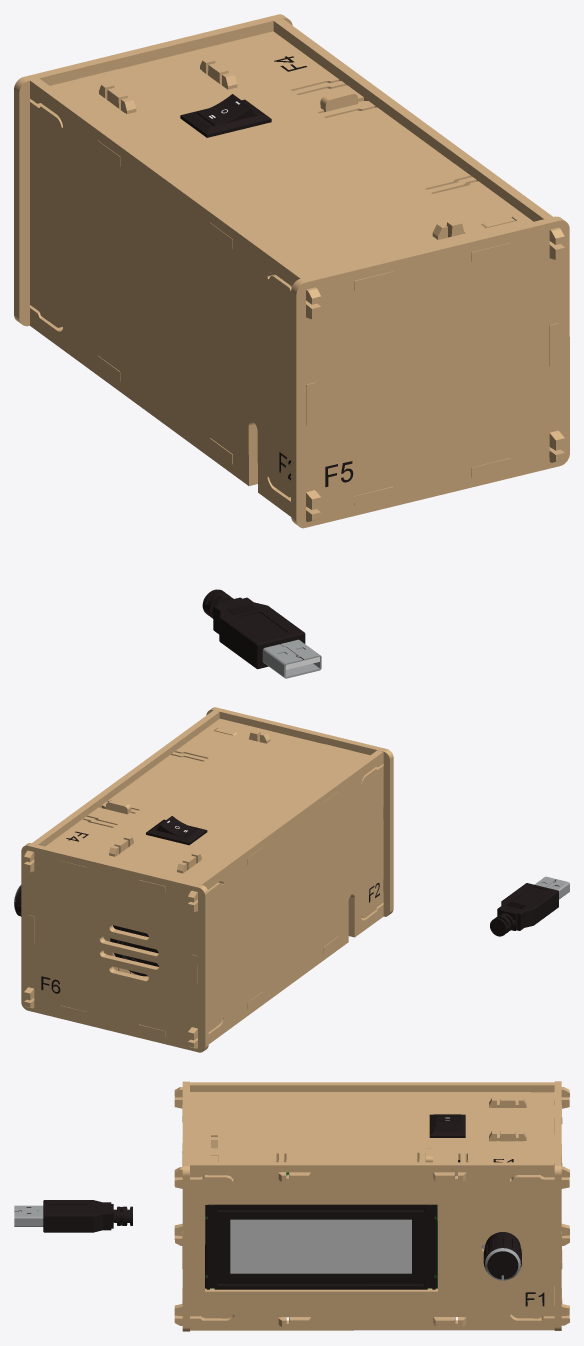
3 renders of one model, top to bottom at view 1: azimuth 30°, elevation 25°; view 2: azimuth 150°, elevation 25°; view 3: azimuth 270°, elevation 25°, orthographic. The views are drawn at different scales.
Parts seen in each view (by area): view 1: F2, F5, F4, F6, NAUO10, USB_A, NAUO46, NAUO2; view 2: F2, F6, F4, F5, NAUO10, USB_A, NAUO46, NAUO2, NAUO62; view 3: NAUO10, F4, NAUO94, F2, USB_A, F5, F6, NAUO13, NAUO46, NAUO2, NAUO43, NAUO42.
Part boxes in pixels (left/top/right/bottom): F2: left=30, top=78, right=321, bottom=521; F5: left=291, top=216, right=569, bottom=528; F4: left=50, top=31, right=533, bottom=290; F6: left=14, top=14, right=292, bottom=326; NAUO10: left=273, top=18, right=564, bottom=462; USB_A: left=202, top=589, right=321, bottom=678; NAUO46: left=180, top=94, right=271, bottom=137; NAUO2: left=97, top=355, right=510, bottom=505; F2: left=187, top=750, right=383, bottom=1048; F6: left=21, top=843, right=208, bottom=1052; F4: left=45, top=718, right=369, bottom=892; F5: left=206, top=707, right=393, bottom=916; NAUO10: left=24, top=710, right=219, bottom=1008; USB_A: left=490, top=876, right=569, bottom=936; NAUO46: left=146, top=816, right=207, bottom=845; NAUO2: left=60, top=936, right=338, bottom=1037; NAUO62: left=110, top=925, right=158, bottom=976; NAUO10: left=174, top=1162, right=569, bottom=1330; F4: left=182, top=1092, right=562, bottom=1181; NAUO94: left=205, top=1172, right=437, bottom=1289; F2: left=174, top=1082, right=569, bottom=1245; USB_A: left=14, top=1200, right=132, bottom=1232; F5: left=182, top=1081, right=189, bottom=1331; F6: left=554, top=1081, right=561, bottom=1330; NAUO13: left=483, top=1232, right=521, bottom=1280; NAUO46: left=429, top=1114, right=465, bottom=1162; NAUO2: left=182, top=1250, right=562, bottom=1326; NAUO43: left=489, top=1130, right=526, bottom=1178; NAUO42: left=489, top=1097, right=526, bottom=1107.
Size of the model in its own units: 149 by 87.4 by 232.
